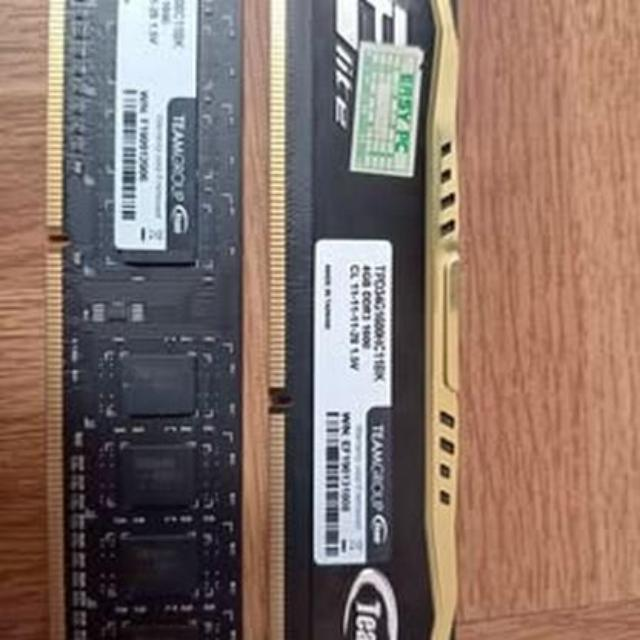RAM: (43, 0, 260, 640), (264, 0, 464, 640)
